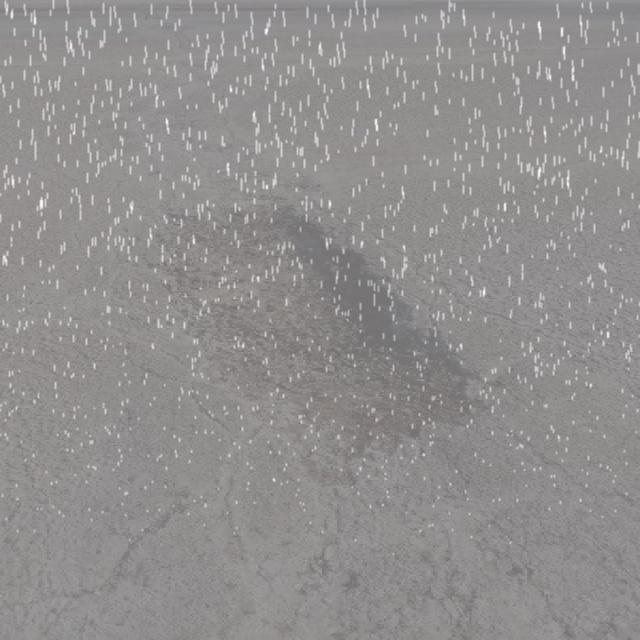Pothole: (131, 185, 491, 501)
